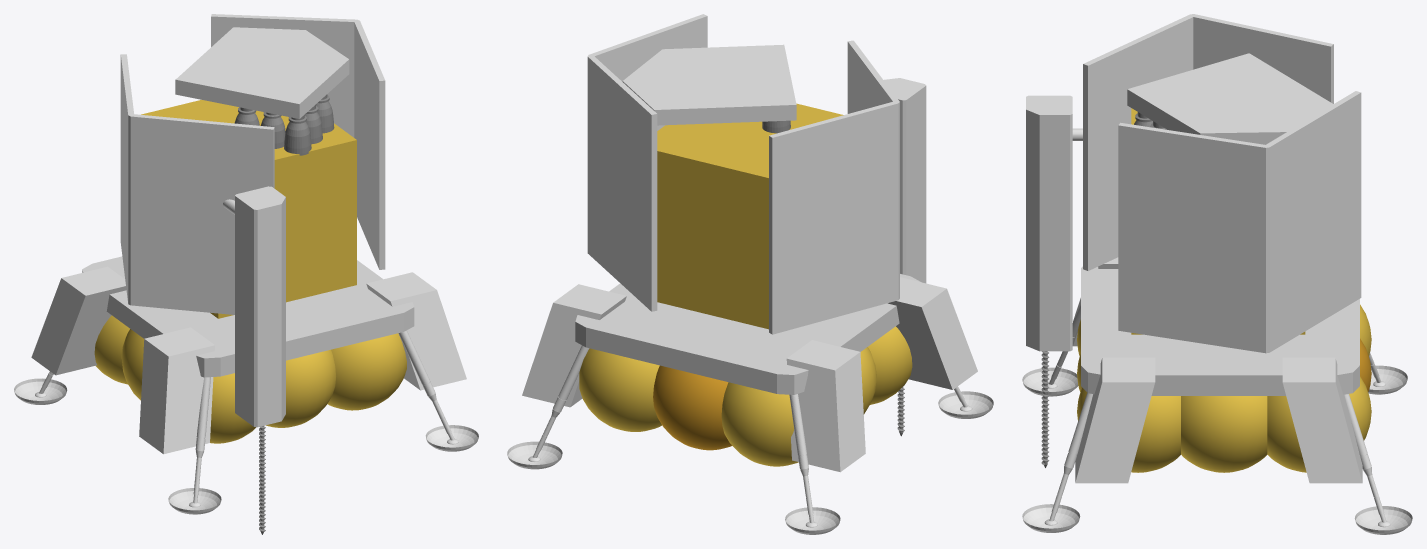
The model's file is LunarDriller.fbx.
3 views of the same model, side by side, from view 1: azimuth 30°, elevation 25°; view 2: azimuth 150°, elevation 25°; view 3: azimuth 270°, elevation 25° (orthographic). The views are drawn at different scales.
Visible parts, largest first — view 1: Cube.006, Cube.005, Cube.004, Cube.009, Cube.008, Cube.007, Cube, Cube.001, Cube.003, Sphere.002, Sphere.001, Sphere (+8 smaller); view 2: Cube.006, Cube.005, Cube.007, Cube.009, Cube.008, Cube.001, Cube, Cube.004, Cube.002, Sphere.006, Sphere.007, Sphere.008 (+7 smaller); view 3: Cube.007, Cube.006, Cube.009, Cube.004, Cube.008, Cube.003, Cube.002, Sphere.003, Sphere.002, Sphere.006, Circle.007, Circle (+5 smaller).
Boxes of the visible parts, x1,y1,x2,y2 form: Cube.006: (120, 54, 274, 314); Cube.005: (141, 99, 356, 318); Cube.004: (235, 186, 285, 427); Cube.009: (82, 256, 414, 377); Cube.008: (175, 27, 349, 118); Cube.007: (211, 14, 385, 269); Cube: (139, 327, 214, 454); Cube.001: (31, 266, 126, 375); Cube.003: (366, 272, 466, 390); Sphere.002: (327, 333, 406, 410); Sphere.001: (266, 349, 335, 427); Sphere: (210, 373, 255, 443); Cube.006: (769, 40, 899, 334); Cube.005: (657, 103, 843, 329); Cube.007: (587, 14, 707, 311); Cube.009: (575, 274, 920, 394); Cube.008: (622, 44, 796, 125); Cube.001: (786, 340, 865, 472); Cube: (888, 277, 977, 389); Cube.004: (883, 78, 926, 283); Cube.002: (522, 284, 626, 407); Sphere.006: (579, 348, 661, 431); Sphere.007: (653, 365, 731, 450); Sphere.008: (721, 382, 798, 466); Cube.007: (1118, 91, 1361, 353); Cube.006: (1083, 14, 1333, 270); Cube.009: (1081, 266, 1359, 395); Cube.004: (1026, 95, 1072, 351); Cube.008: (1127, 53, 1333, 144); Cube.003: (1075, 357, 1155, 483); Cube.002: (1282, 357, 1362, 483); Sphere.003: (1181, 396, 1267, 472); Sphere.002: (1077, 387, 1180, 472); Sphere.006: (1267, 376, 1371, 472); Circle.007: (1354, 506, 1412, 534); Circle: (1022, 504, 1080, 532).
Size of the model in its own units: 193 by 233 by 194.
